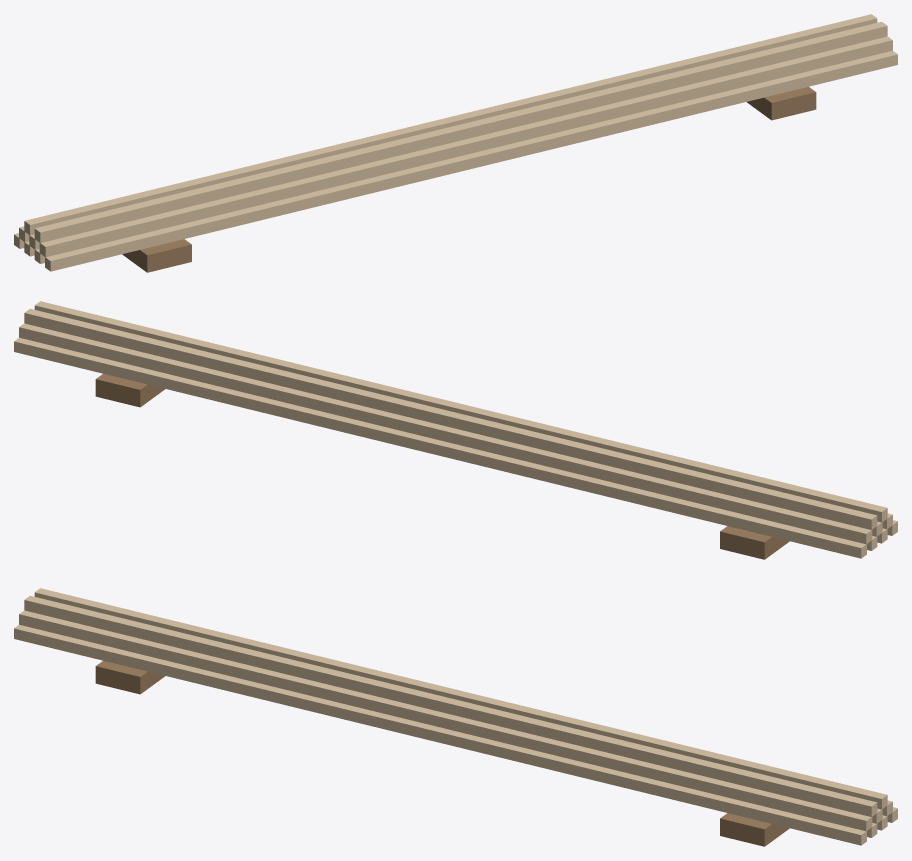
File: prop-shaft-blank-stack.fbx
The picture shows the model from 3 angles, top to bottom: view 1: azimuth 30°, elevation 25°; view 2: azimuth 150°, elevation 25°; view 3: azimuth 330°, elevation 25°; orthographic projection.
Visible parts, largest first — view 1: prop-shaft-blank-stack; view 2: prop-shaft-blank-stack; view 3: prop-shaft-blank-stack.
Boxes of the visible parts, x1,y1,x2,y2 form: prop-shaft-blank-stack: [14, 14, 897, 272]; prop-shaft-blank-stack: [14, 301, 897, 559]; prop-shaft-blank-stack: [14, 588, 897, 846].
Size of the model in its own units: 76 by 4.2 by 8.
